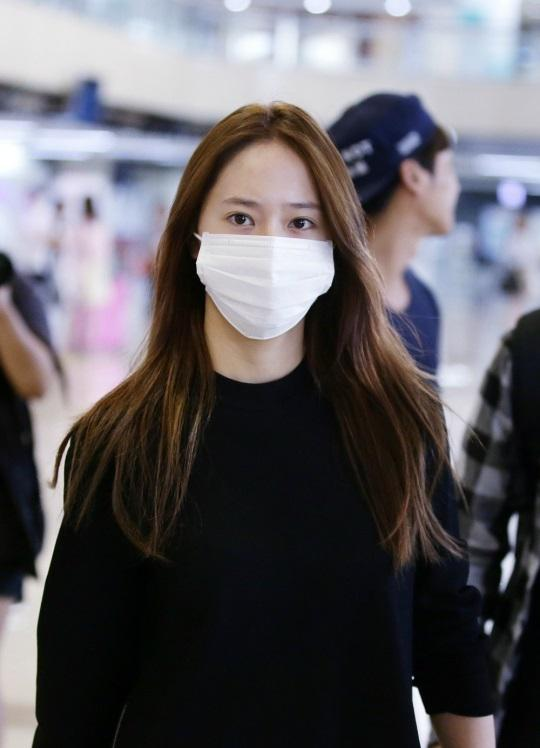NONE: (400, 148, 461, 238)
OK: (205, 191, 351, 337)
